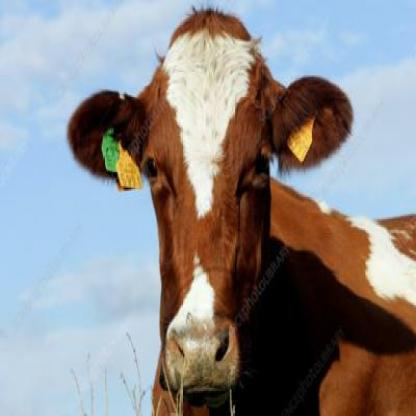lower: (188, 392, 218, 402)
mouth: (158, 314, 243, 406)
upper: (193, 343, 207, 364)
